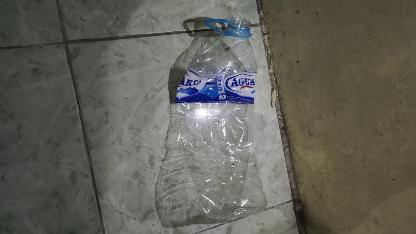Plastic Bottle: (154, 16, 258, 228)
